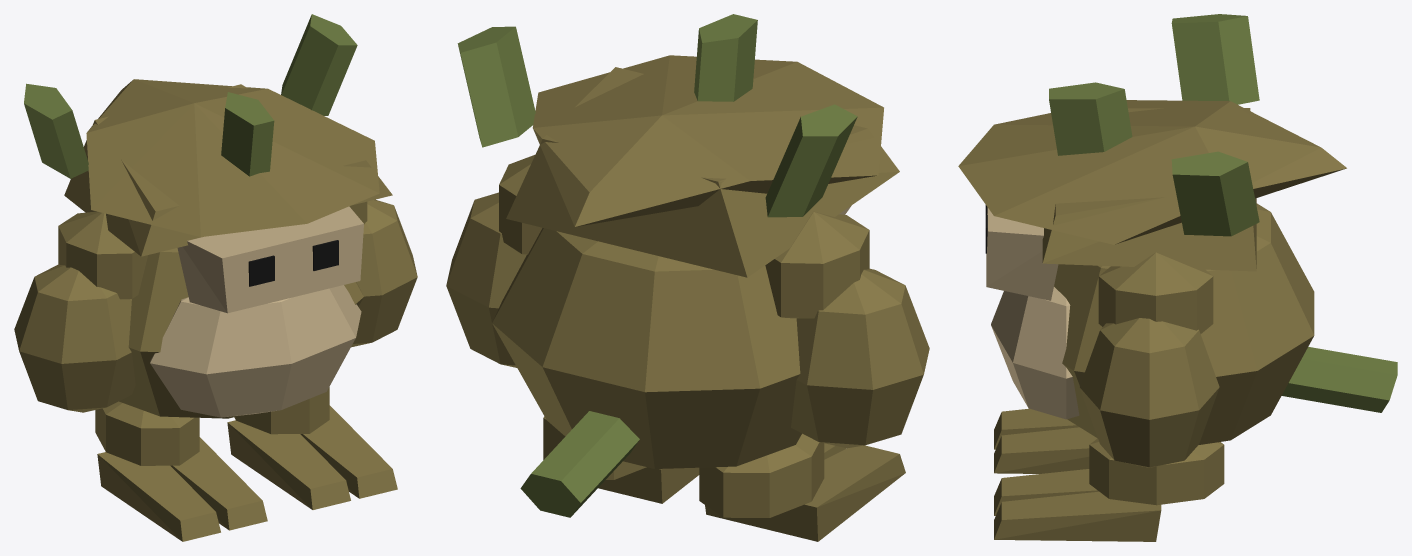
File: burruff.glb
3 views of the same model, side by side, from view 1: azimuth 30°, elevation 25°; view 2: azimuth 150°, elevation 25°; view 3: azimuth 270°, elevation 25° (orthographic). The views are drawn at different scales.
Visible parts, largest first — view 1: Burruff; view 2: Burruff; view 3: Burruff.
Part boxes in pixels (bbox=[...]): Burruff: bbox=[14, 14, 417, 541]; Burruff: bbox=[446, 14, 929, 541]; Burruff: bbox=[958, 14, 1397, 541].
Bounding box in the file's own units: 0.52 × 0.48 × 0.48.
